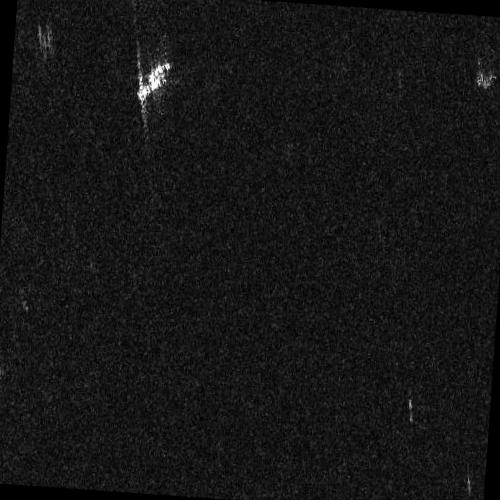ship: (136, 62, 173, 104)
